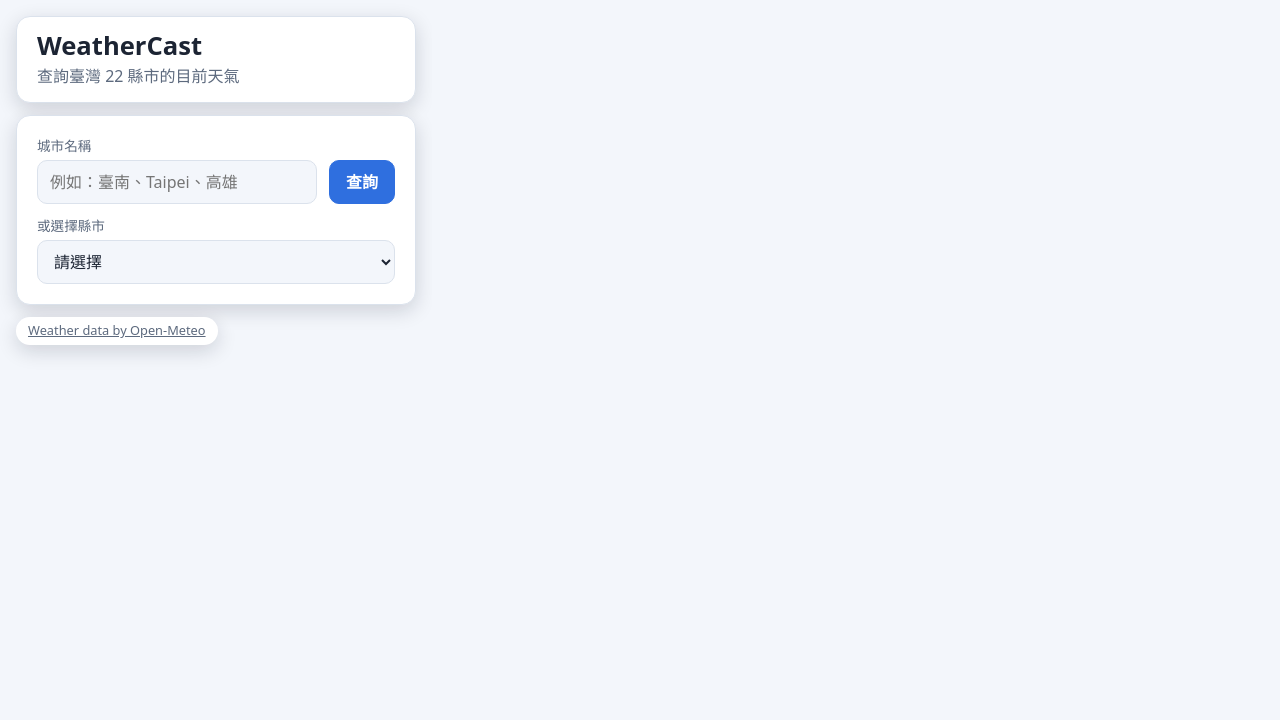
Test: App › searches with a preset city chosen from the list
Select "臺南市（Tainan）" in the dropdown labelled "或選擇縣市" at (216, 262), box x1=37 y1=240 x2=395 y2=284
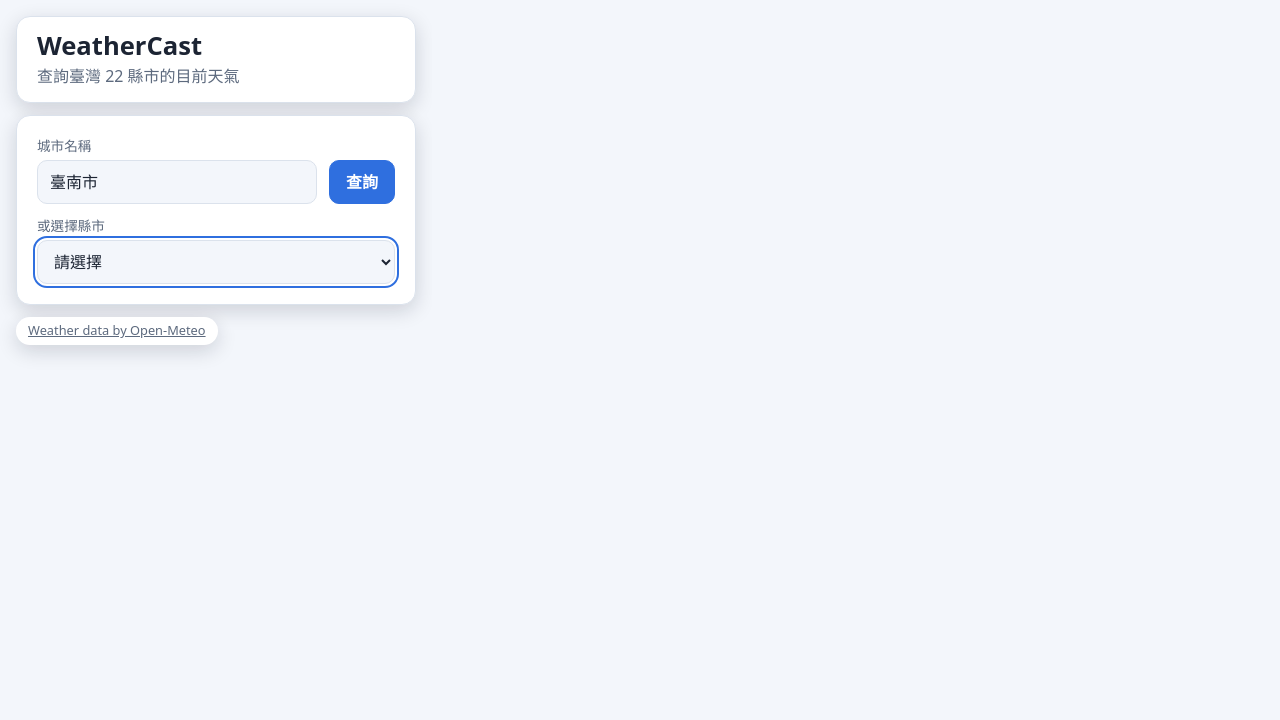
Result: the field labelled "城市名稱" holds "臺南市" at x1=37 y1=160 x2=317 y2=204
Click the button "查詢" at (362, 182), box x1=329 y1=160 x2=395 y2=204
(page scrolled)
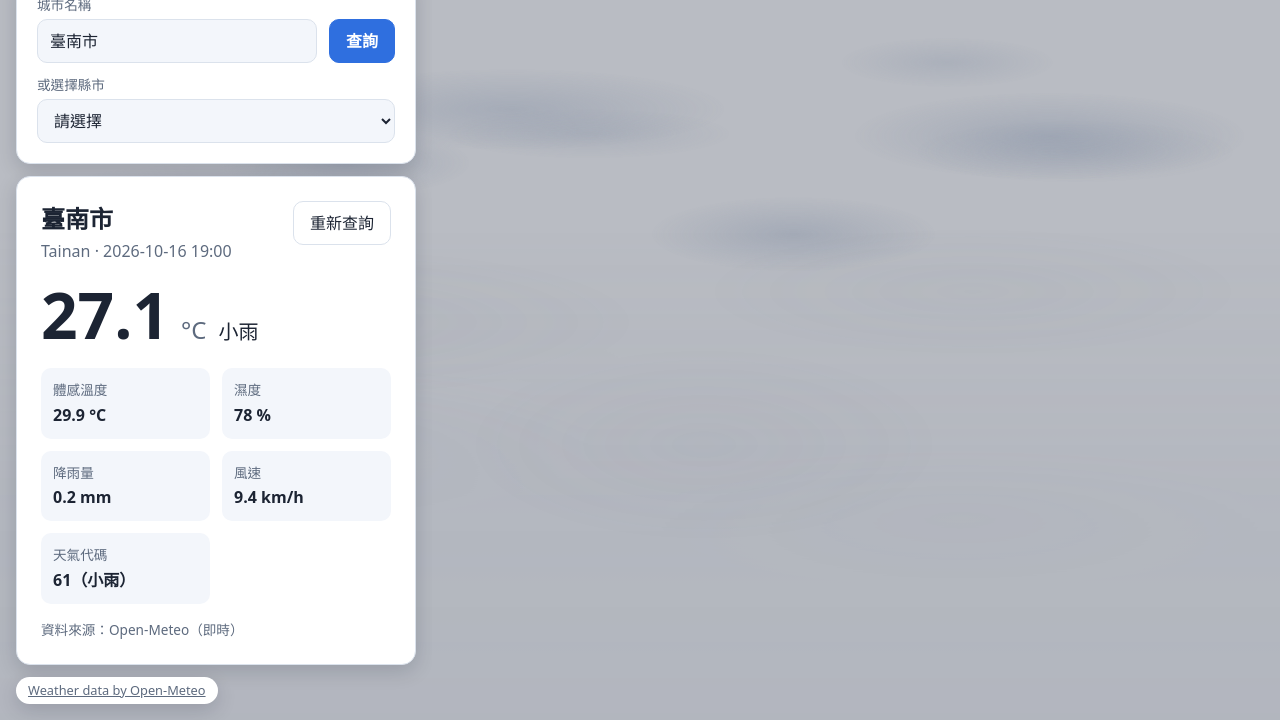
Result: the element that starts with "臺南市" is shown at x1=16 y1=176 x2=416 y2=665
